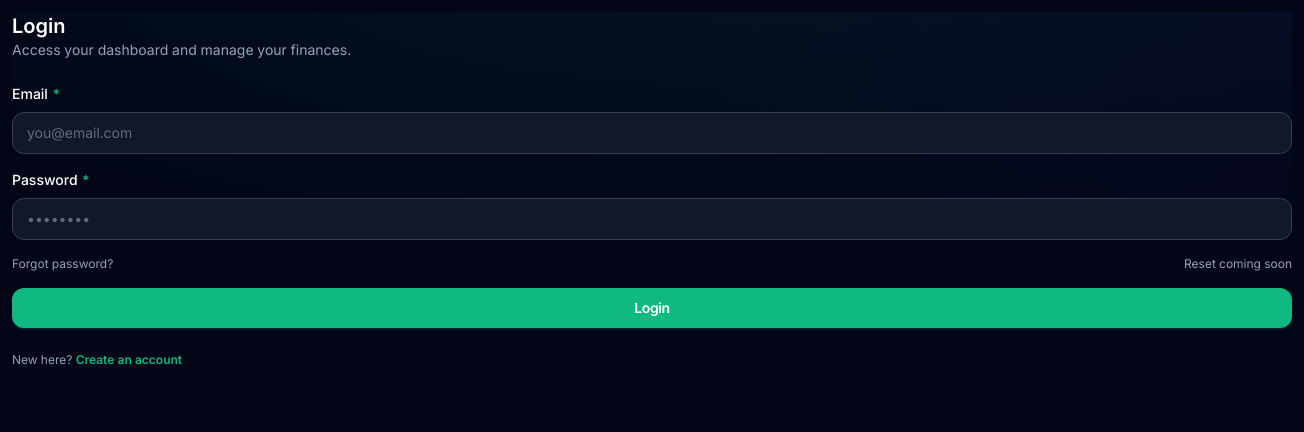
Scenario: Login page › shows error message when login fails
Type "user@example.com" into the field labelled "Email *".
click(652, 133); type("user@example.com")  # box [12,112,1292,154]
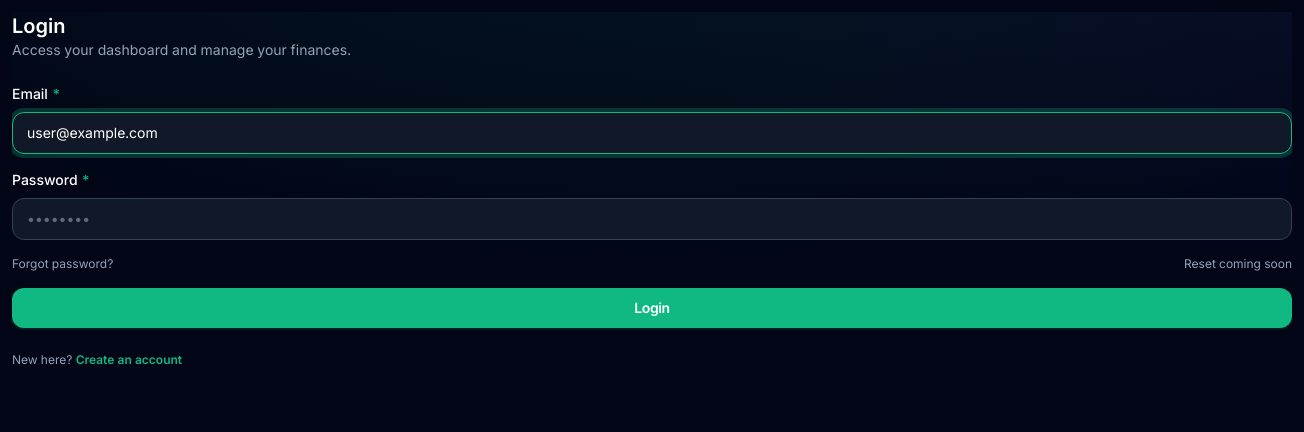
Type "wrong" into the password field labelled "Password *".
click(652, 219); type("wrong")  # box [12,198,1292,240]
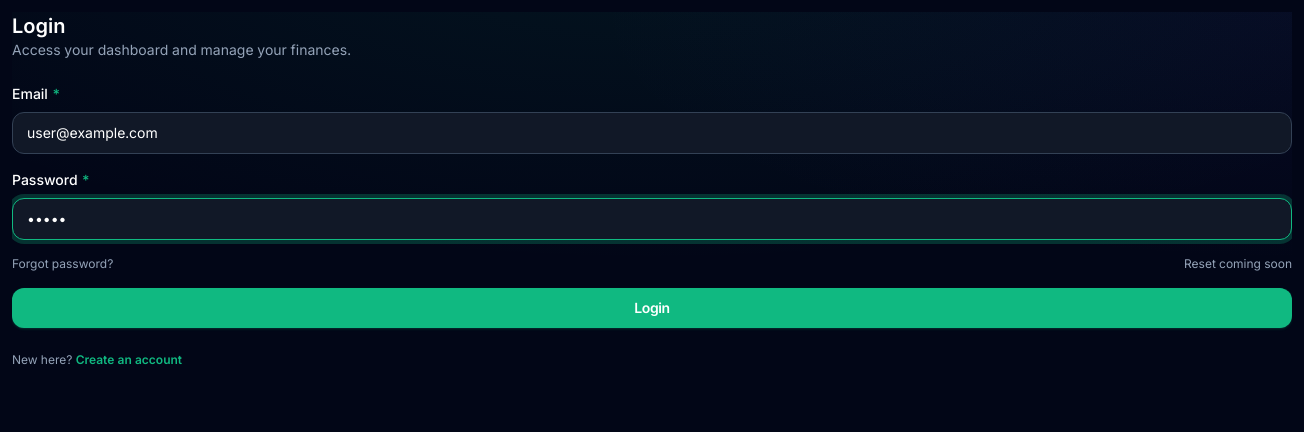
Click the button "Login".
click(652, 308)  # box [12,288,1292,328]
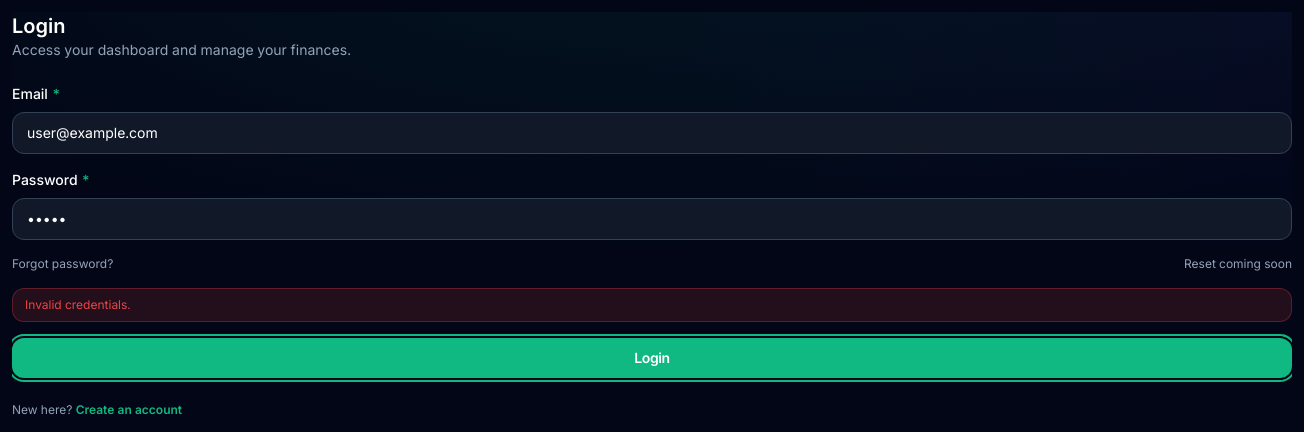
Expected: the text "Invalid credentials." is shown, [12,288,1292,322]
